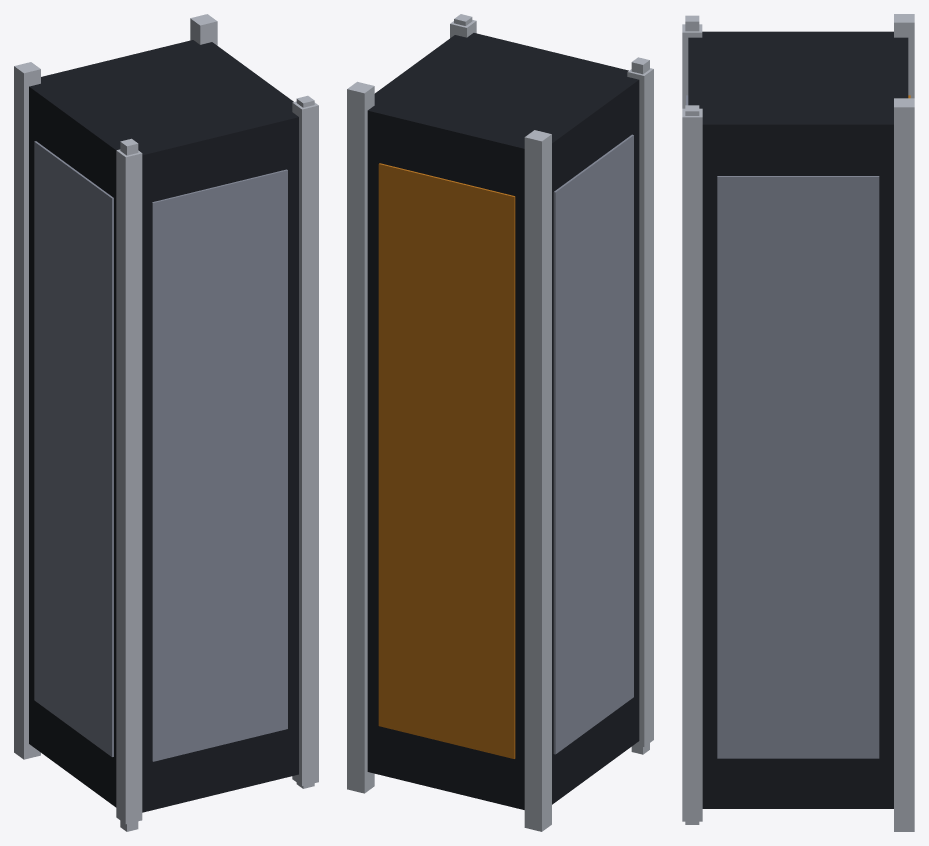
3 renders of one model, left to right at view 1: azimuth 30°, elevation 25°; view 2: azimuth 150°, elevation 25°; view 3: azimuth 270°, elevation 25°, orthographic. The views are drawn at different scales.
Parts seen in each view (by area): view 1: cube3u_pcb_yn, cube3u_chasis, cube3u_pcb_xn, cube3u; view 2: cube3u_pcb_yp, cube3u_chasis, cube3u, cube3u_pcb_xn; view 3: cube3u_pcb_xp, cube3u_chasis, cube3u.
Boxes of the visible parts, box(x1,y1,x2,y2) form: cube3u_pcb_yn: box(152, 169, 287, 761); cube3u_chasis: box(29, 40, 298, 812); cube3u_pcb_xn: box(34, 141, 113, 756); cube3u: box(14, 14, 318, 831); cube3u_pcb_yp: box(378, 163, 515, 758); cube3u_chasis: box(367, 33, 639, 809); cube3u: box(347, 14, 653, 831); cube3u_pcb_xn: box(553, 134, 633, 754); cube3u_pcb_xp: box(717, 176, 879, 758); cube3u_chasis: box(688, 31, 908, 808); cube3u: box(682, 14, 914, 831).
Size of the model in its own units: 0.1004 by 0.3452 by 0.1004.
